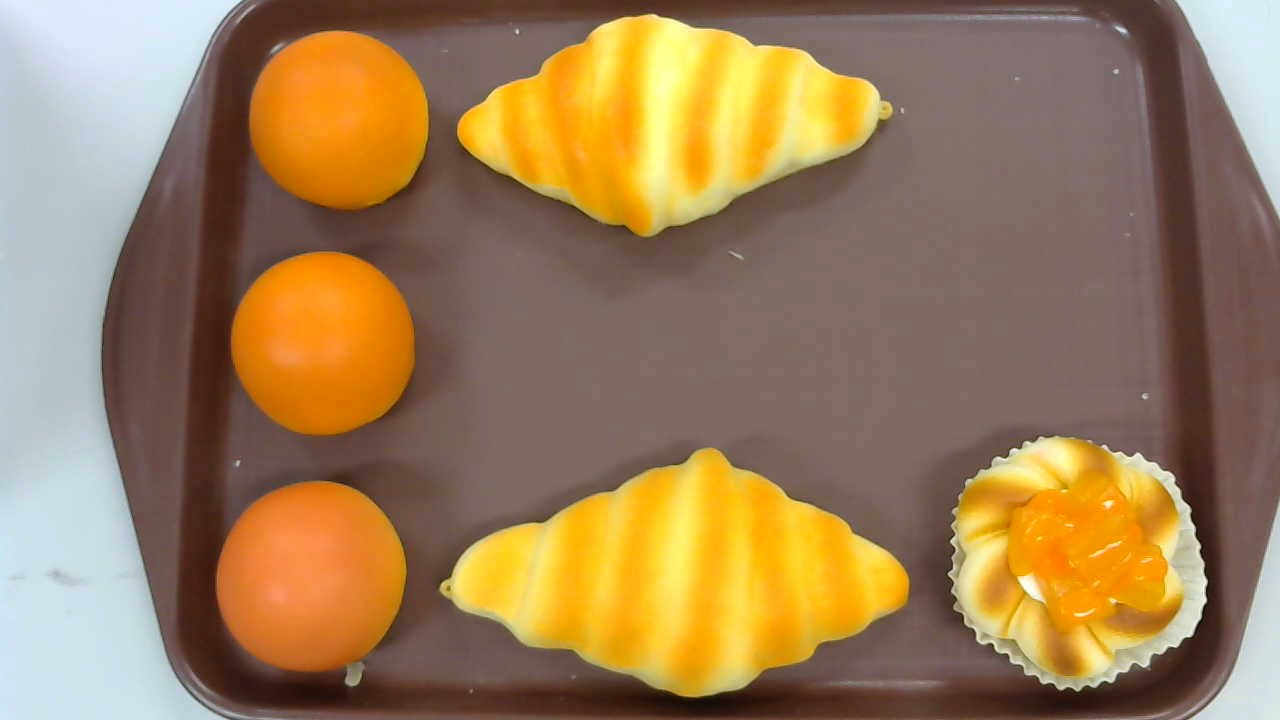bun: (216, 480, 407, 670), (231, 251, 416, 435), (248, 30, 428, 209)
croissant: (439, 446, 910, 701), (457, 12, 894, 240)
mango tart: (948, 434, 1208, 697)
